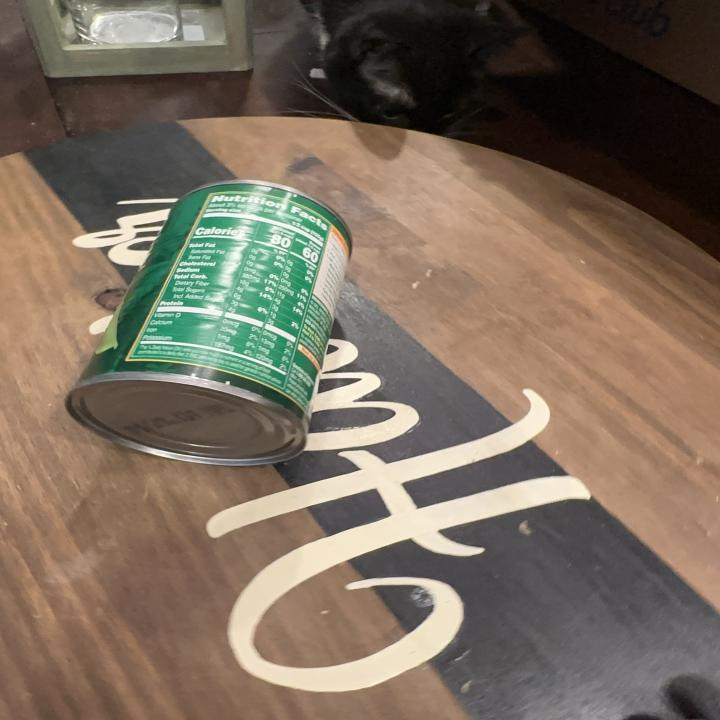Canned-Peas: (75, 148, 358, 473)
